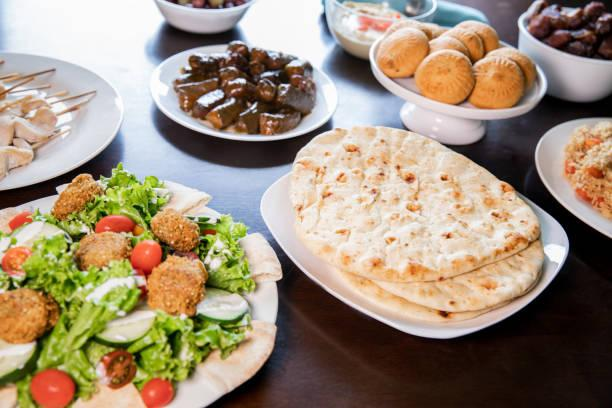Braised Crucian Carp: (3, 177, 287, 406), (265, 124, 568, 331), (149, 42, 333, 141), (369, 33, 545, 122)
